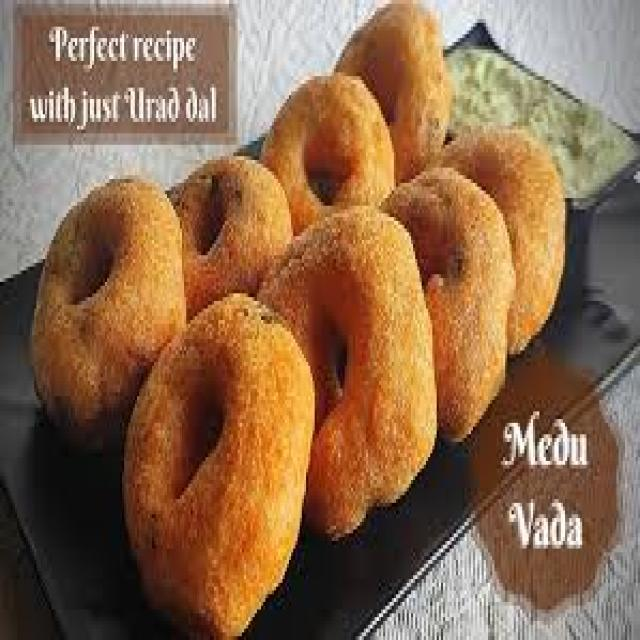MEDU VADA: (115, 292, 312, 636), (258, 207, 443, 554), (21, 175, 181, 454), (388, 170, 515, 458), (451, 133, 569, 348), (263, 61, 401, 239), (343, 0, 451, 181), (173, 157, 288, 312)
